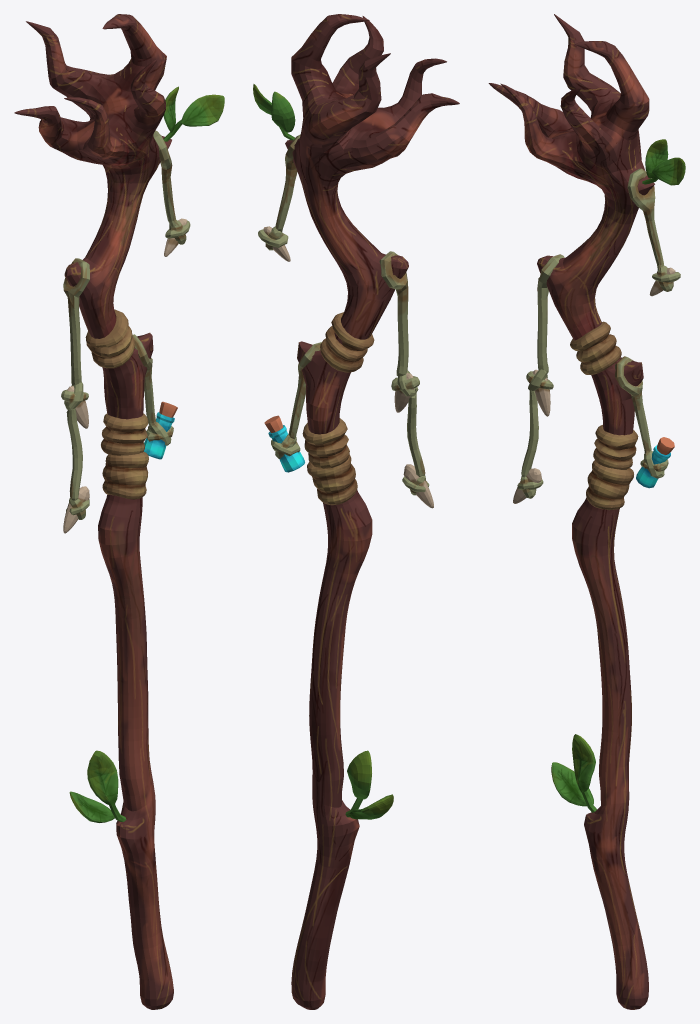
Rendered from Weapon_Staff_Earth.glb.
The picture shows the model from 3 angles, left to right: view 1: azimuth 30°, elevation 25°; view 2: azimuth 150°, elevation 25°; view 3: azimuth 330°, elevation 25°; orthographic projection. The views are drawn at different scales.
Parts seen in each view (by area): view 1: Weapon_Staff_Earth; view 2: Weapon_Staff_Earth; view 3: Weapon_Staff_Earth.
Boxes of the visible parts, x1=… form: Weapon_Staff_Earth: x1=14, y1=14, x2=224, y2=1009; Weapon_Staff_Earth: x1=253, y1=14, x2=459, y2=1009; Weapon_Staff_Earth: x1=488, y1=14, x2=685, y2=1009.
Size of the model in its own units: 0.3701 by 1.7 by 0.1922.
Materials: 1 (1 with a texture image).
